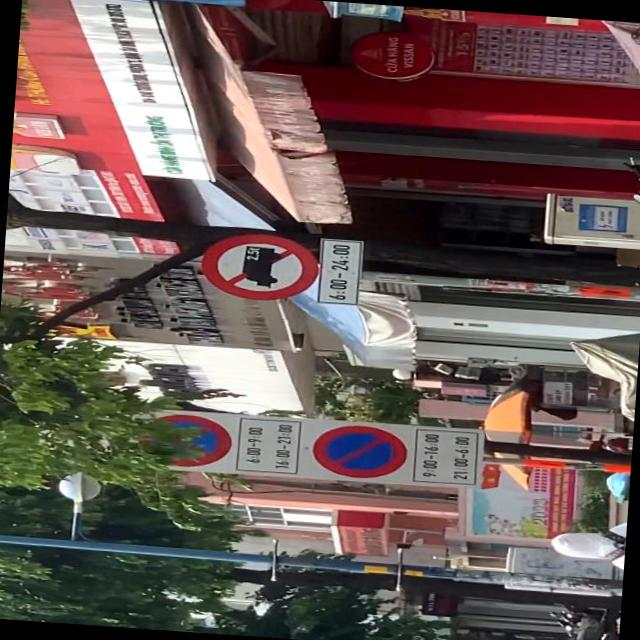P-130: (306, 420, 408, 480)
